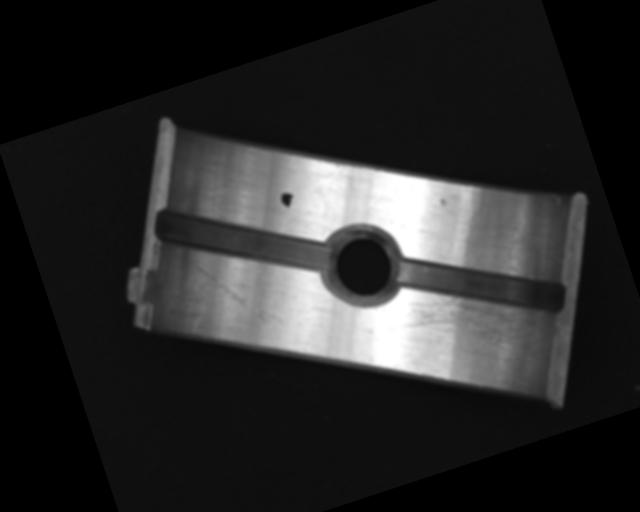blot: (279, 189, 297, 210)
bruise: (438, 196, 448, 208)
gap: (148, 164, 333, 316), (393, 214, 569, 355)
hole: (315, 218, 409, 316)
nick: (192, 243, 284, 344)
scratch: (385, 260, 559, 401)
